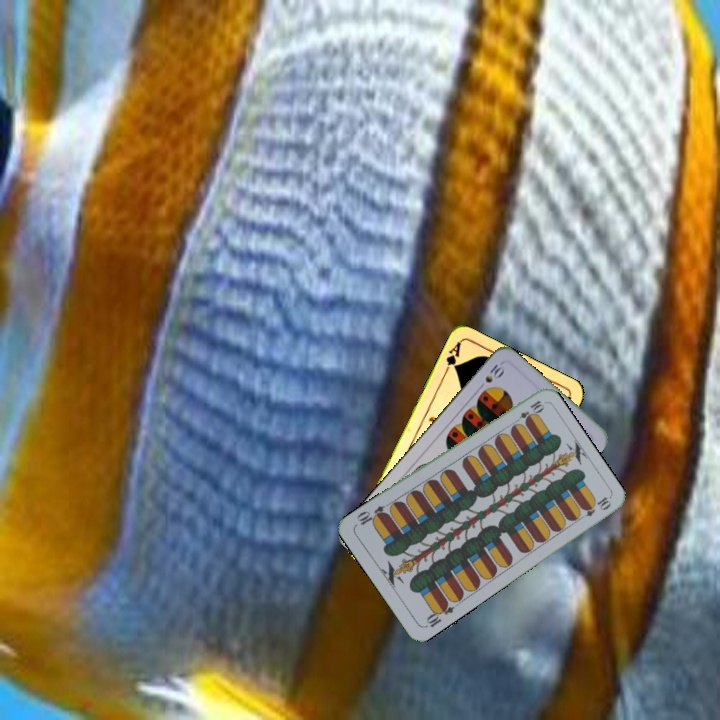E10: (421, 597, 457, 630), (510, 396, 546, 427)
GA: (441, 338, 464, 377)
S10: (474, 358, 507, 392)
